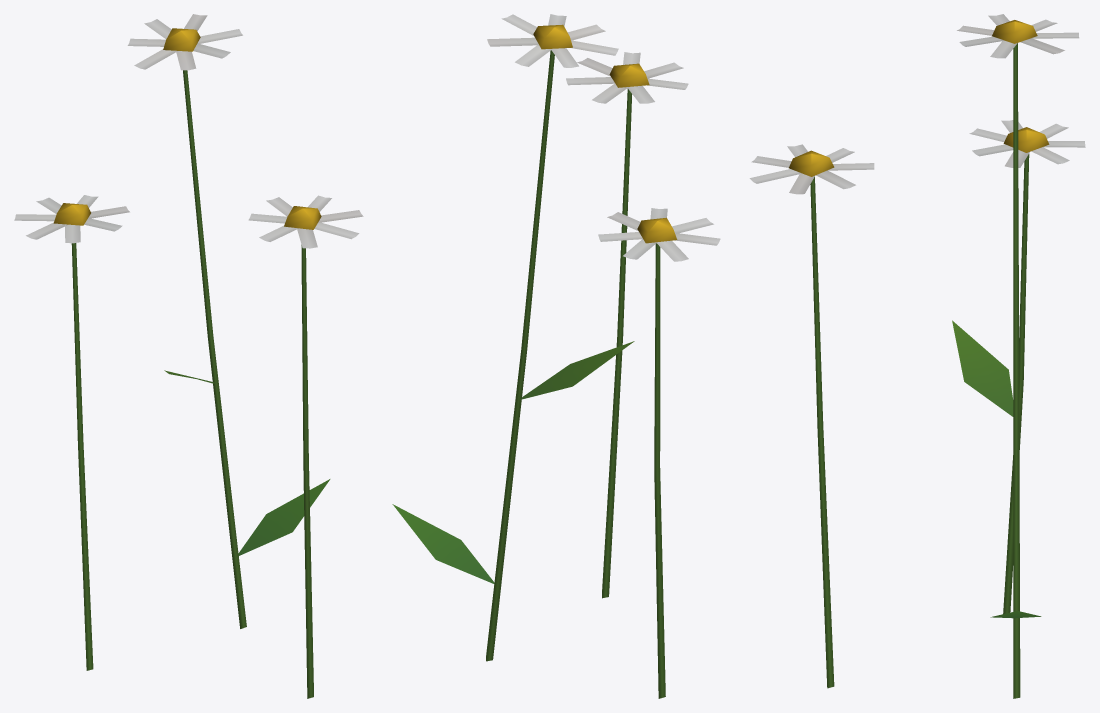
The model's file is flower-daisy-b.lod2.glb.
3 views of the same model, side by side, from view 1: azimuth 30°, elevation 25°; view 2: azimuth 150°, elevation 25°; view 3: azimuth 270°, elevation 25° (orthographic). The views are drawn at different scales.
Parts seen in each view (by area): view 1: flower-daisy-b.lod2; view 2: flower-daisy-b.lod2; view 3: flower-daisy-b.lod2.
Boxes of the visible parts, x1=… form: flower-daisy-b.lod2: x1=14, y1=14, x2=363, y2=698; flower-daisy-b.lod2: x1=392, y1=14, x2=720, y2=698; flower-daisy-b.lod2: x1=749, y1=14, x2=1085, y2=698.
Bounding box in the file's own units: 0.2185 × 0.4178 × 0.1975.
